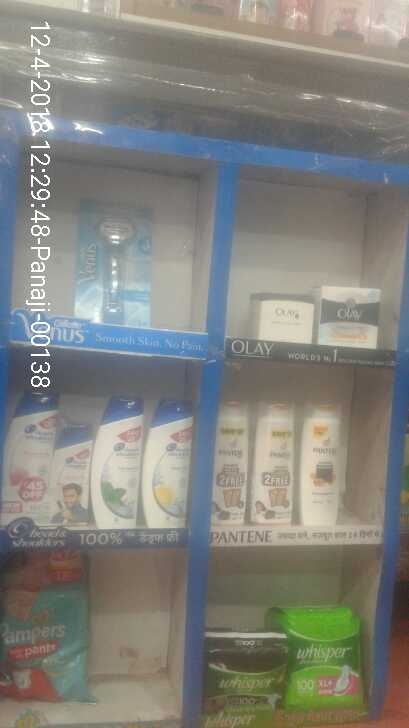venus: (74, 198, 150, 327)
